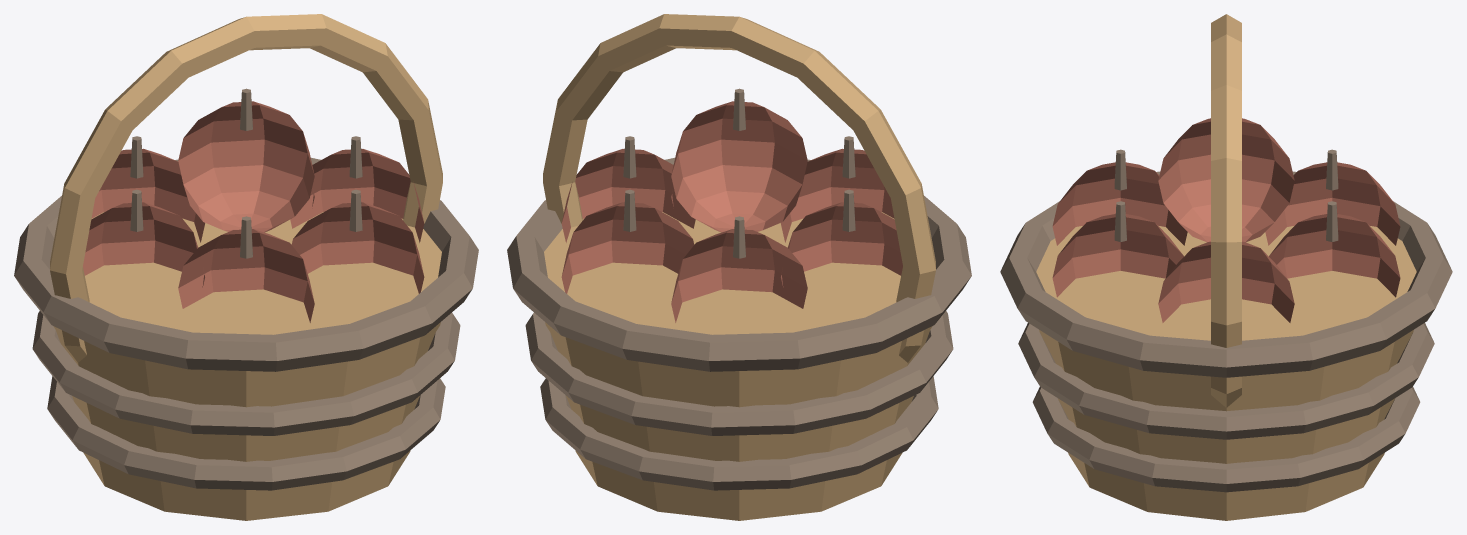
File: harvest-hearth-orchard-apple-basket__70.glb
3 views of the same model, side by side, from view 1: azimuth 30°, elevation 25°; view 2: azimuth 150°, elevation 25°; view 3: azimuth 270°, elevation 25° (orthographic). The views are drawn at different scales.
Visible parts, largest first — view 1: harvest-hearth-apple-basket; view 2: harvest-hearth-apple-basket; view 3: harvest-hearth-apple-basket.
Part boxes in pixels (left/top/right/bottom): harvest-hearth-apple-basket: left=14, top=14, right=478, bottom=520; harvest-hearth-apple-basket: left=507, top=14, right=971, bottom=520; harvest-hearth-apple-basket: left=1000, top=14, right=1452, bottom=520.
Bounding box in the file's own units: 0.63 × 0.645 × 0.63.
